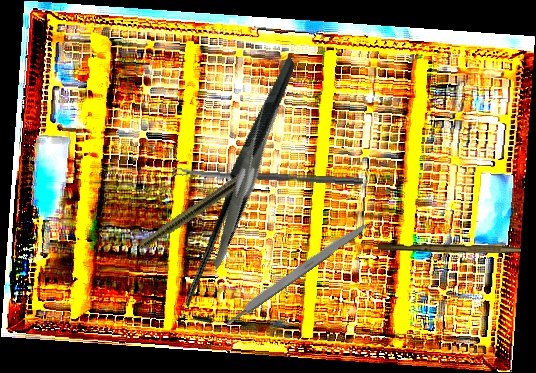Dressing Forceps: (168, 99, 317, 269)
Handpiece: (115, 162, 260, 267)
Hook Surgical: (107, 56, 382, 330)
Scalpel Handle: (221, 216, 374, 328), (378, 243, 521, 253)
Surgical Spoon: (172, 167, 364, 185)
